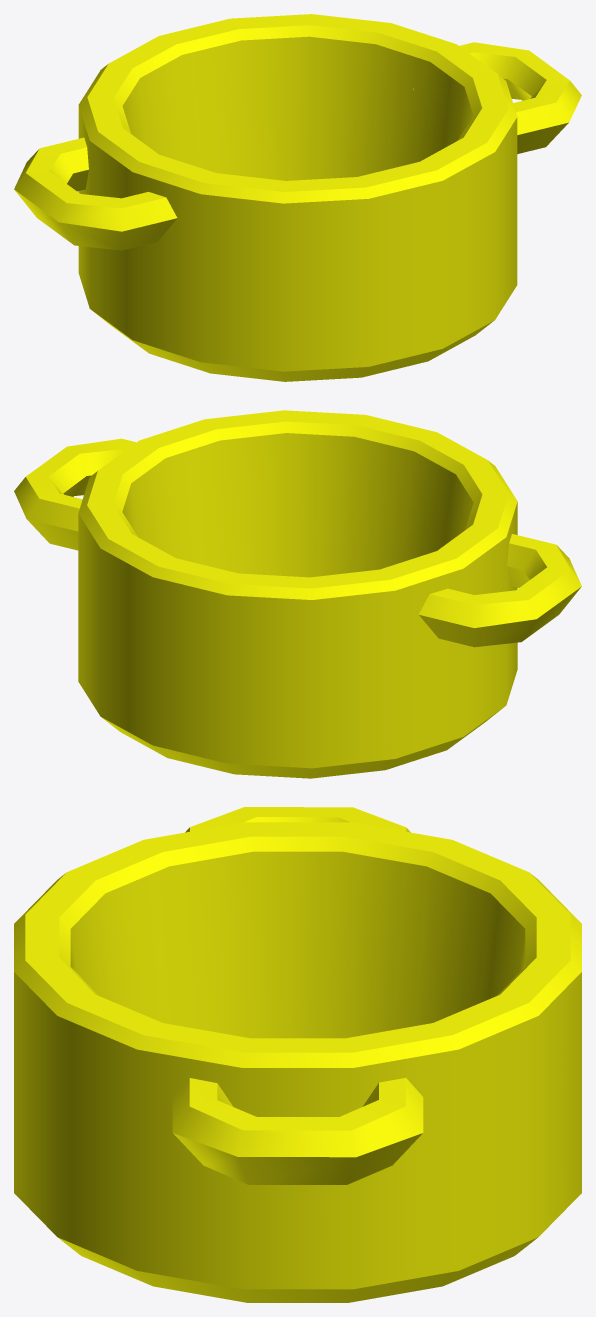
The model's file is kaykit-pot-b.glb.
The picture shows the model from 3 angles, top to bottom: view 1: azimuth 30°, elevation 25°; view 2: azimuth 150°, elevation 25°; view 3: azimuth 270°, elevation 25°; orthographic projection. The views are drawn at different scales.
Visible parts, largest first — view 1: pot_B; view 2: pot_B; view 3: pot_B.
Boxes of the visible parts, left/top/right/bottom form: pot_B: left=14, top=14, right=581, bottom=381; pot_B: left=14, top=410, right=581, bottom=778; pot_B: left=14, top=807, right=581, bottom=1302.
Size of the model in its own units: 1.4 by 0.4999 by 1.
